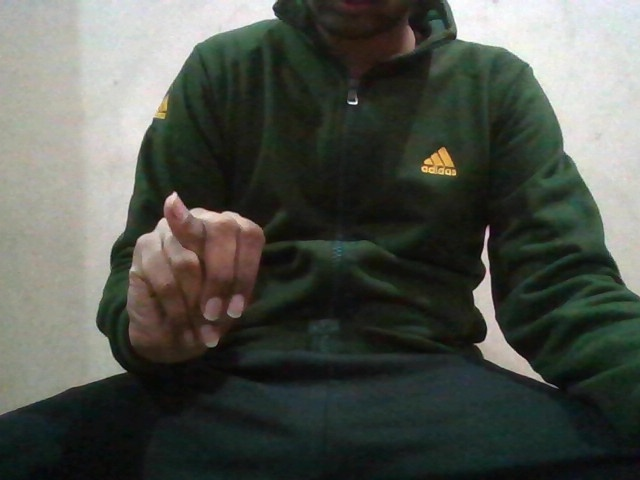N: (127, 190, 260, 364)
